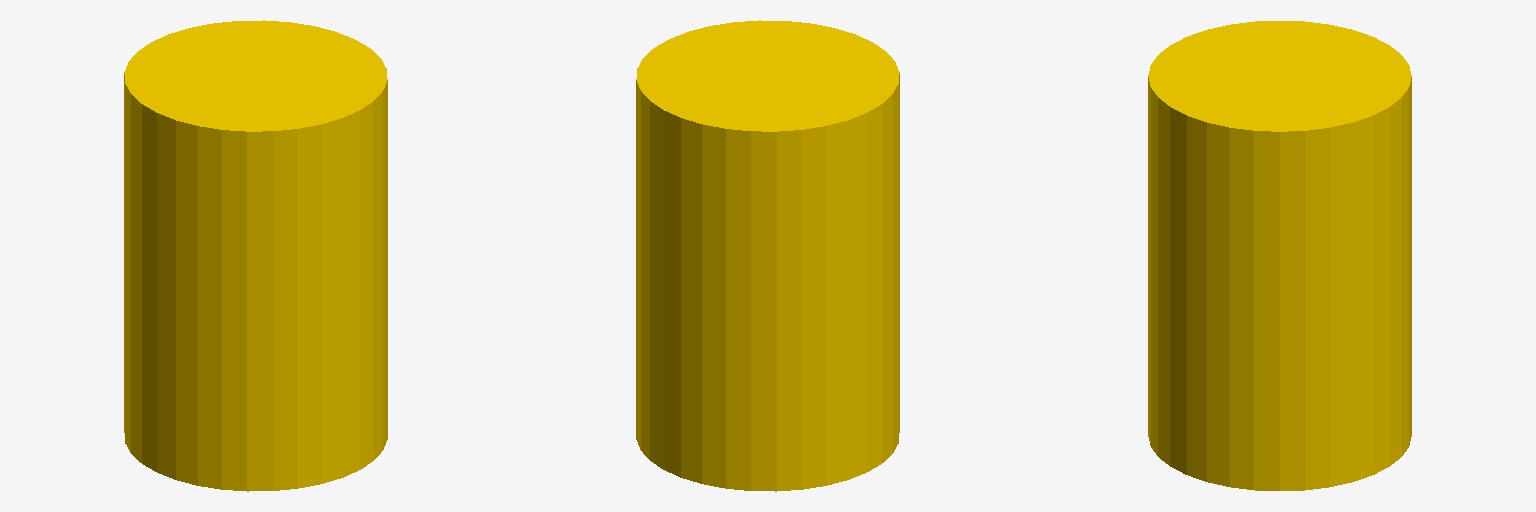
The robot description file, URDF, robot "cube":
<?xml version="1.0"?>
 <robot name="cube">
   <material name="golden">
     <color rgba="1 0.843 0 1"/>
   </material>
   <link name="base_link">
     <visual>
       <geometry>
         <cylinder length="10.185500144958496" radius="3.3829689025878906"/>
       </geometry>
       <material name="golden"/>
     </visual>
     <inertial>
       <mass value="0"/>
       <inertia ixx="1.0" ixy="0.0" ixz="0.0" iyy="1.0" iyz="0.0" izz="1.0"/>
     </inertial>
   </link>
 </robot>

--- Facts derived from the render (not from the file) ---
Views: 3 orthographic renders of the robot side by side, from view 1: azimuth 30°, elevation 25°; view 2: azimuth 150°, elevation 25°; view 3: azimuth 270°, elevation 25°.
Model cube with 1 links and 0 joints (none), rooted at base_link, posed all joints at 0.
Links seen in each view (by area): view 1: base_link; view 2: base_link; view 3: base_link.
Link boxes in pixels (<box>): base_link: <box>124,20,387,491</box>; base_link: <box>636,20,899,491</box>; base_link: <box>1148,21,1411,490</box>.
Size in the robot's own frame: 6.77 by 6.77 by 10.19 metres.
Geometry: primitives only (box / cylinder / sphere), no mesh files.